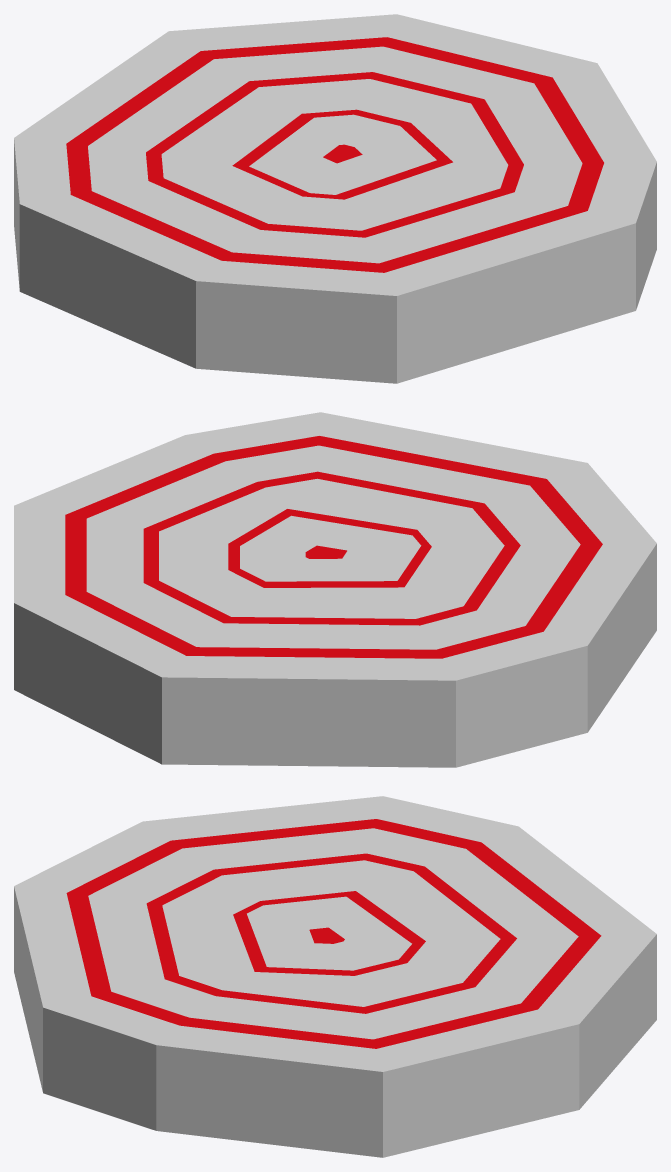
File: Target.fbx
The picture shows the model from 3 angles, top to bottom: view 1: azimuth 30°, elevation 25°; view 2: azimuth 150°, elevation 25°; view 3: azimuth 270°, elevation 25°; orthographic projection. The views are drawn at different scales.
Parts seen in each view (by area): view 1: Cylinder; view 2: Cylinder; view 3: Cylinder.
Boxes of the visible parts, box(x1,y1,x2,y2) form: Cylinder: box(14, 14, 656, 383); Cylinder: box(14, 412, 656, 767); Cylinder: box(14, 796, 656, 1157).
Size of the model in its own units: 143 by 20.75 by 141.
